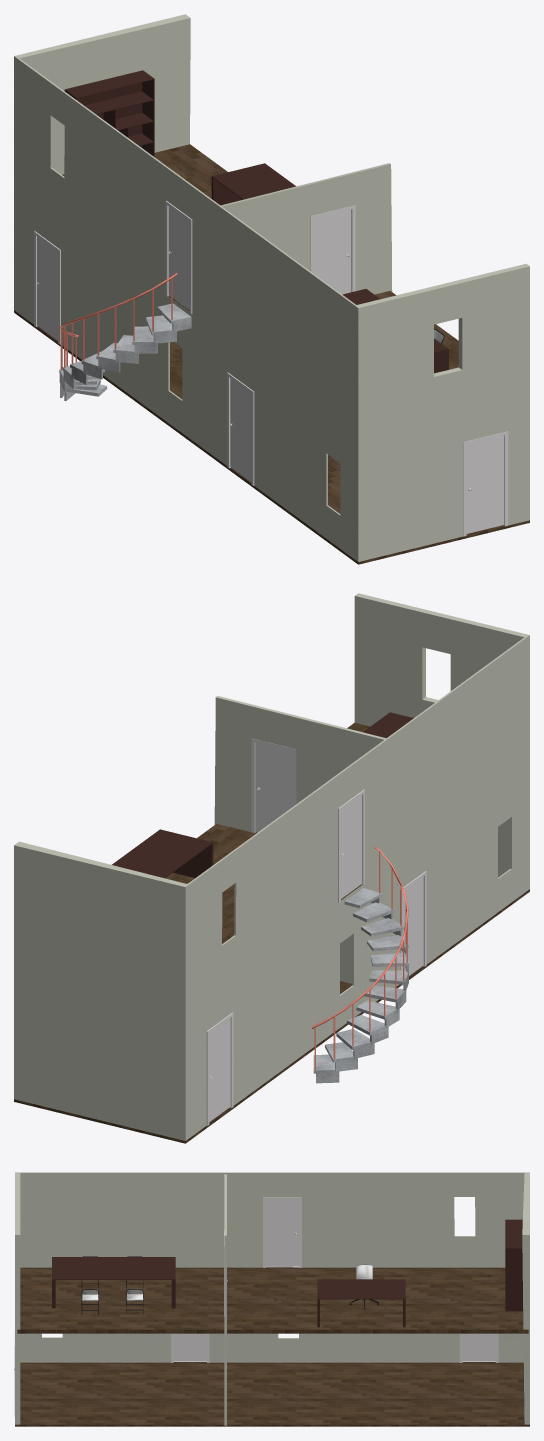
The model's file is Room.glb.
3 views of the same model, one above another, from view 1: azimuth 30°, elevation 25°; view 2: azimuth 150°, elevation 25°; view 3: azimuth 270°, elevation 25° (orthographic). The views are drawn at different scales.
Parts seen in each view (by area): view 1: Shkaf, Floor2, Stair1; view 2: Shkaf, Stair1, Floor2; view 3: Shkaf, Floor2, Chair2.
Boxes of the visible parts, x1=… form: Shkaf: x1=14, y1=14, x2=529, y2=561; Floor2: x1=14, y1=144, x2=529, y2=564; Stair1: x1=59, y1=303, x2=191, y2=400; Shkaf: x1=14, y1=593, x2=529, y2=1140; Stair1: x1=313, y1=888, x2=408, y2=1083; Floor2: x1=14, y1=722, x2=529, y2=1143; Shkaf: x1=14, y1=1172, x2=529, y2=1425; Floor2: x1=15, y1=1267, x2=529, y2=1426; Chair2: x1=81, y1=1256, x2=143, y2=1314.
Size of the model in its own units: 61.68 by 60.22 by 146.
3 materials, 3 textured.
